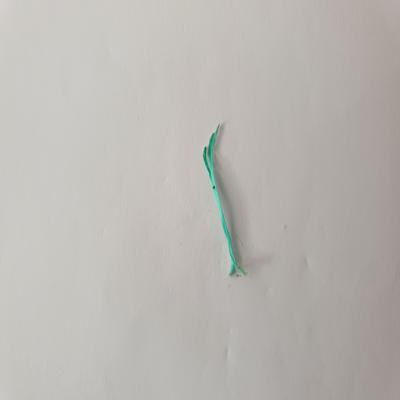thread: (199, 117, 256, 286)
